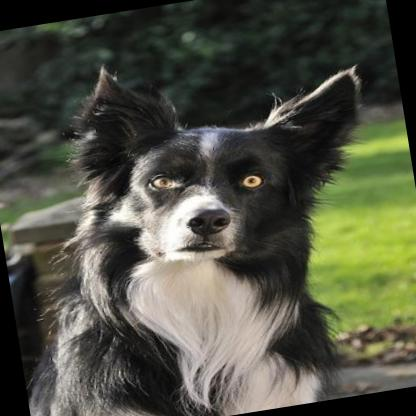Border_collie: (0, 23, 403, 416)
